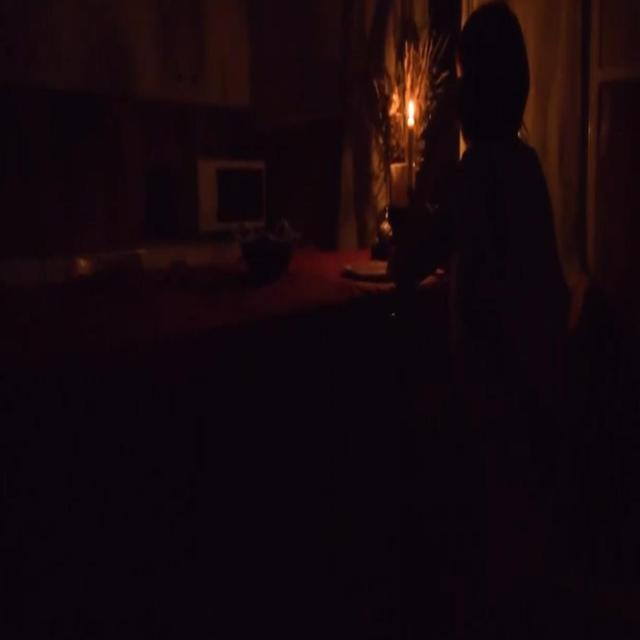smoke: (406, 98, 416, 121)
